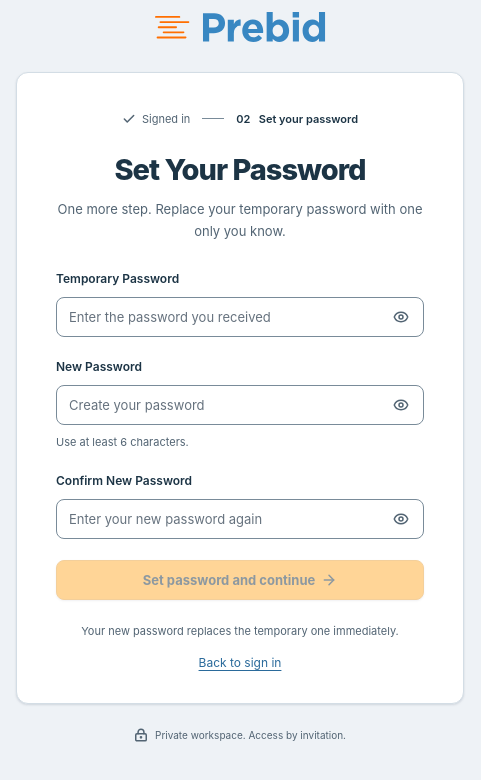
it: shows a specific length error without sending an invalid password
Type "TemporaryPassword1!" into the password field labelled "Temporary Password".
click(240, 318); type("TemporaryPassword1!")  # box [56, 298, 424, 338]
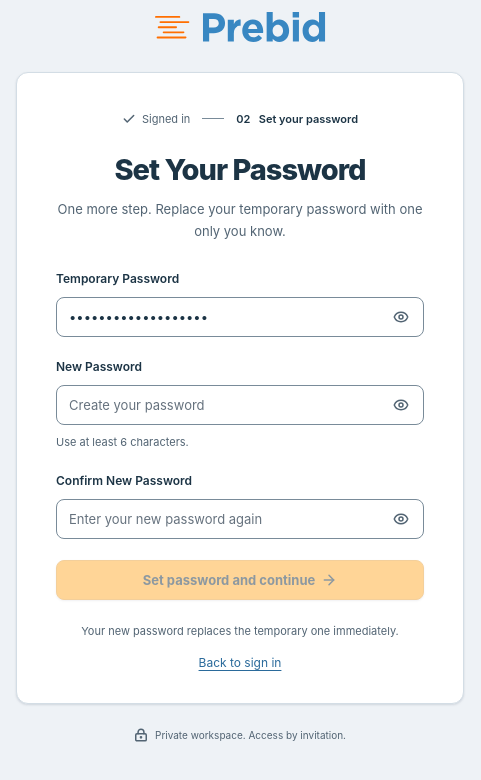
Type "short" into the password field labelled "New Password".
click(240, 406); type("short")  # box [56, 386, 424, 426]
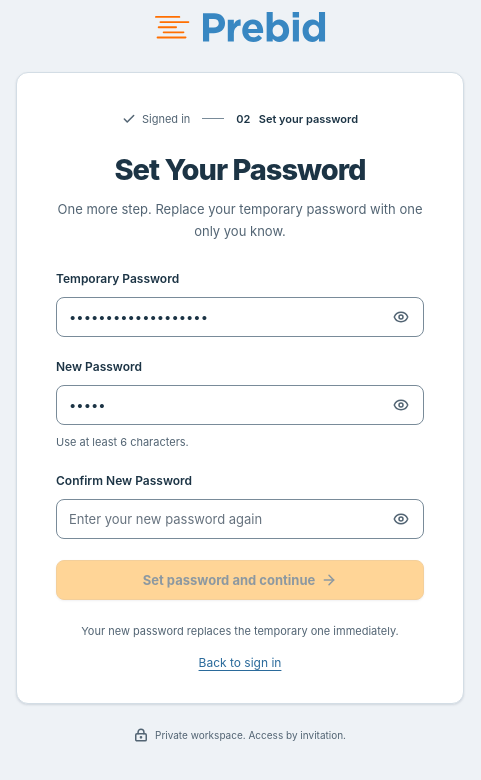
Type "short" into the password field labelled "Confirm New Password".
click(240, 519); type("short")  # box [56, 499, 424, 539]
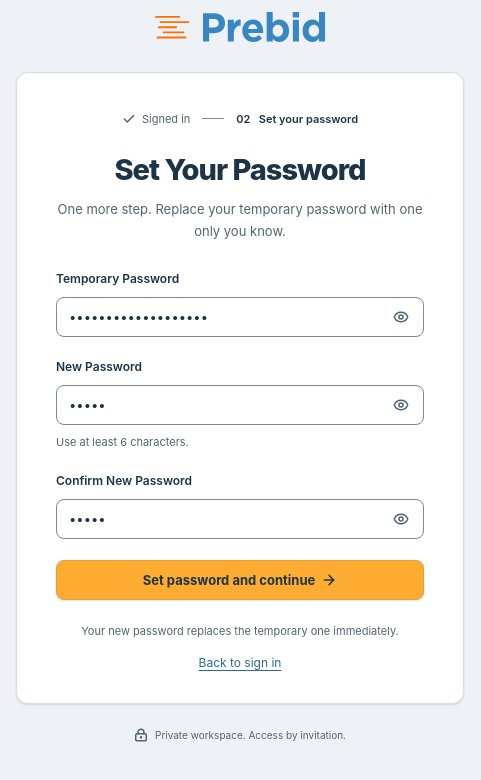
Submit the form named "Set password and continue", box [56, 270, 424, 600]
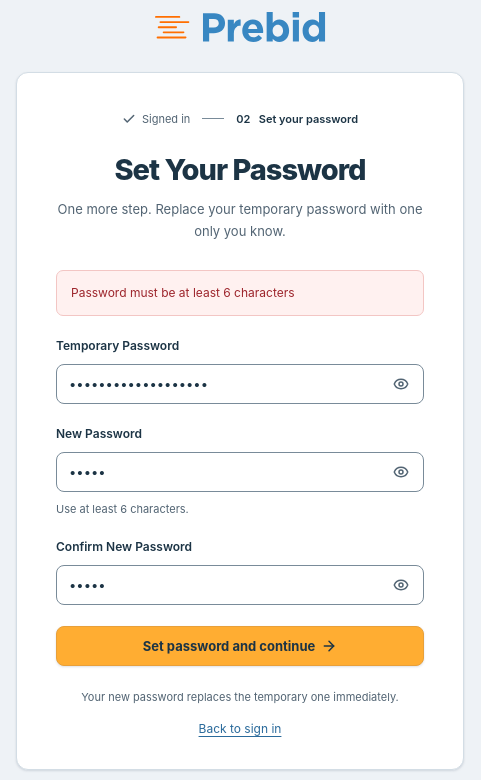
Now the message reads "Password must be at least 6 characters", box [71, 286, 295, 300]
